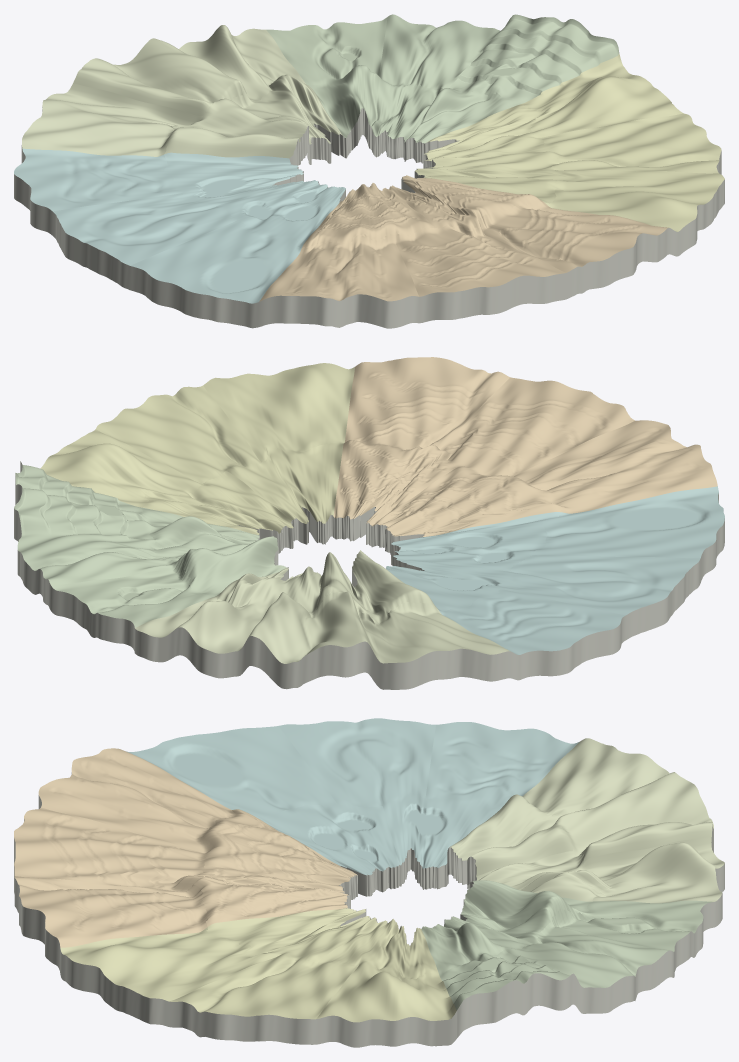
The model's file is wheel-body.glb.
3 renders of one model, top to bottom at view 1: azimuth 30°, elevation 25°; view 2: azimuth 150°, elevation 25°; view 3: azimuth 270°, elevation 25°, orthographic. The views are drawn at different scales.
Visible parts, largest first — view 1: Reserved outer drop, R3 / Basalt waterfall basin, C5 / Seasonal transition, W5 / Palm lagoon, M4 / Creekside clearing, W4 / Oxbow marsh, M3 / Dry grassy woodland, W3 / Peat seep, F5 / Creek fed mosaic, F4 / Terraced crescents, F3 / Valley fan, C4 / Sheltered gully (+15 smaller); view 2: Reserved outer drop, F4 / Terraced crescents, F3 / Valley fan, F5 / Creek fed mosaic, M3 / Dry grassy woodland, W5 / Palm lagoon, M4 / Creekside clearing, W4 / Oxbow marsh, F1 / Amphitheatre swales, W3 / Peat seep, F2 / Ridge keyline, M5 / Montane meadow islands (+15 smaller); view 3: Reserved outer drop, F3 / Valley fan, W5 / Palm lagoon, F4 / Terraced crescents, W4 / Oxbow marsh, F5 / Creek fed mosaic, W3 / Peat seep, M3 / Dry grassy woodland, C4 / Sheltered gully, M4 / Creekside clearing, C3 / Wind shaped ridge, F1 / Amphitheatre swales (+15 smaller).
Part boxes in pixels (<box>): Reserved outer drop: <box>14,107,724,328</box>; R3 / Basalt waterfall basin: <box>449,14,619,103</box>; C5 / Seasonal transition: <box>22,83,202,156</box>; W5 / Palm lagoon: <box>130,220,301,303</box>; M4 / Creekside clearing: <box>538,113,721,173</box>; W4 / Oxbow marsh: <box>53,193,236,265</box>; M3 / Dry grassy woodland: <box>545,170,724,231</box>; W3 / Peat seep: <box>14,148,182,211</box>; F5 / Creek fed mosaic: <box>478,199,668,272</box>; F4 / Terraced crescents: <box>394,224,565,296</box>; F3 / Valley fan: <box>259,234,418,301</box>; C4 / Sheltered gully: <box>73,38,246,115</box>; Reserved outer drop: <box>14,461,724,689</box>; F4 / Terraced crescents: <box>440,377,634,476</box>; F3 / Valley fan: <box>514,420,717,513</box>; F5 / Creek fed mosaic: <box>344,357,509,450</box>; M3 / Dry grassy woodland: <box>203,363,354,462</box>; W5 / Palm lagoon: <box>531,486,724,558</box>; M4 / Creekside clearing: <box>96,385,261,484</box>; W4 / Oxbow marsh: <box>503,555,700,615</box>; F1 / Amphitheatre swales: <box>372,466,563,536</box>; W3 / Peat seep: <box>439,589,625,654</box>; F2 / Ridge keyline: <box>333,440,459,525</box>; M5 / Montane meadow islands: <box>40,429,202,507</box>; Reserved outer drop: <box>14,772,724,1047</box>; F3 / Valley fan: <box>38,748,236,853</box>; W5 / Palm lagoon: <box>126,726,337,816</box>; F4 / Terraced crescents: <box>14,807,210,891</box>; W4 / Oxbow marsh: <box>278,718,435,807</box>; F5 / Creek fed mosaic: <box>14,876,208,947</box>; W3 / Peat seep: <box>425,722,578,807</box>; M3 / Dry grassy woodland: <box>60,927,281,1001</box>; C4 / Sheltered gully: <box>555,772,713,862</box>; M4 / Creekside clearing: <box>169,952,359,1019</box>; C3 / Wind shaped ridge: <box>583,836,724,903</box>; F1 / Amphitheatre swales: <box>203,809,357,890</box>.
Size of the model in its own units: 4 by 0.4452 by 3.96.
